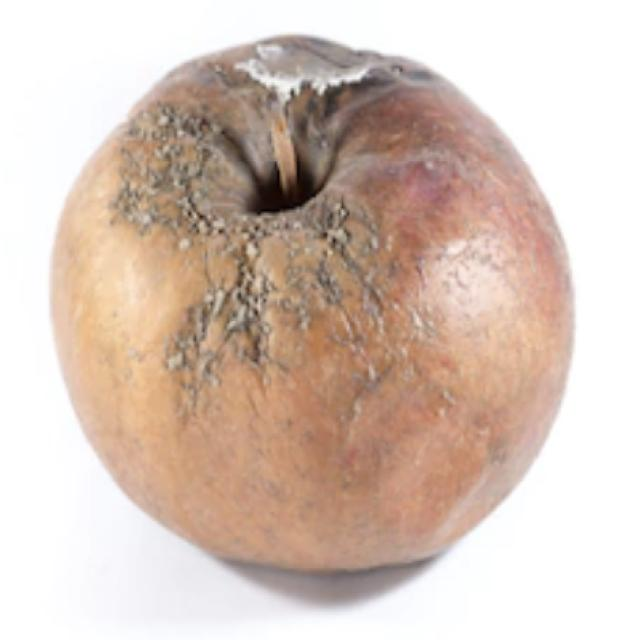Rotten: (48, 28, 582, 576)
